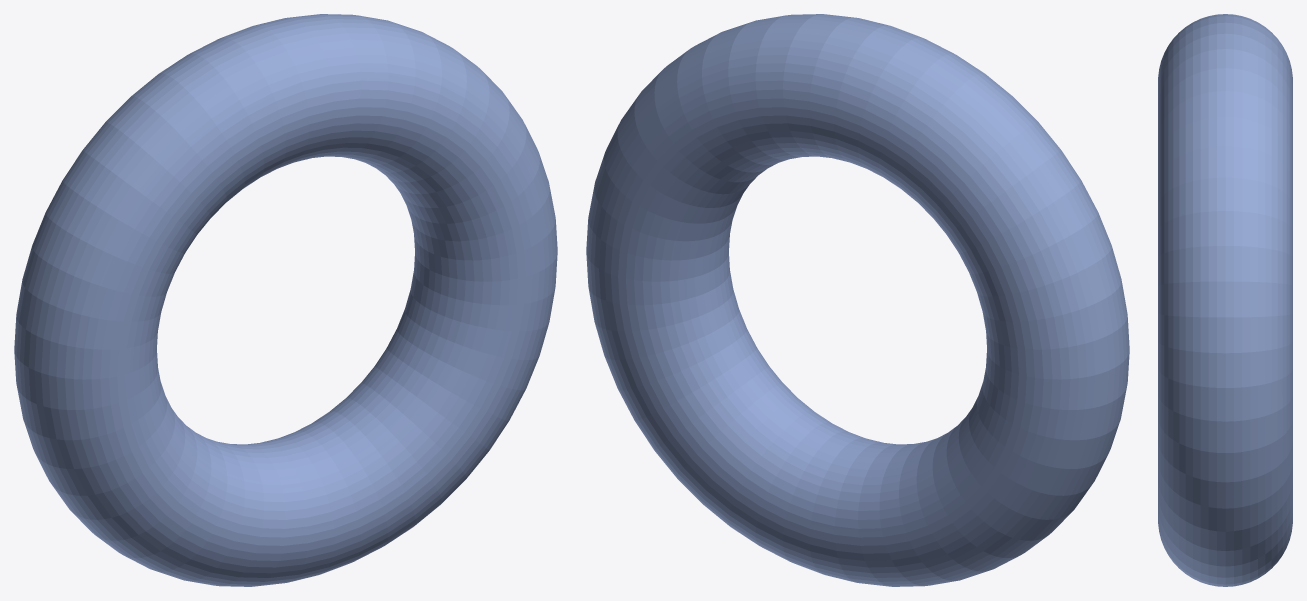
The picture shows the model from 3 angles, left to right: view 1: azimuth 30°, elevation 25°; view 2: azimuth 150°, elevation 25°; view 3: azimuth 270°, elevation 25°; orthographic projection. The views are drawn at different scales.
Parts seen in each view (by area): view 1: world; view 2: world; view 3: world.
Part boxes in pixels (x1,y1,x2,y2): world: (14,14,557,586); world: (586,14,1129,586); world: (1158,14,1292,586).
Bounding box in the file's own units: 20.93 × 20.89 × 4.92.
